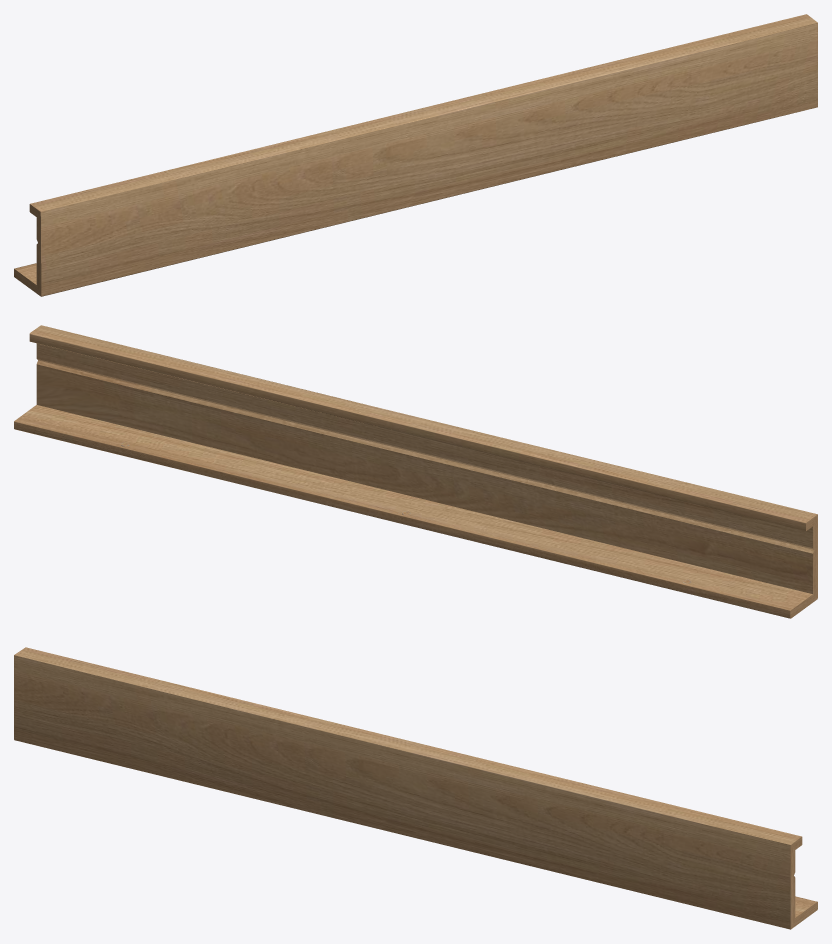
Rendered from LB-ART-02.glb.
3 views of the same model, one above another, from view 1: azimuth 30°, elevation 25°; view 2: azimuth 150°, elevation 25°; view 3: azimuth 330°, elevation 25° (orthographic).
Visible parts, largest first — view 1: ASY_ART_70586941_S01_NV01; view 2: ASY_ART_70586941_S01_NV01; view 3: ASY_ART_70586941_S01_NV01.
Boxes of the visible parts, x1,y1,x2,y2 form: ASY_ART_70586941_S01_NV01: (14, 14, 817, 296); ASY_ART_70586941_S01_NV01: (14, 325, 817, 618); ASY_ART_70586941_S01_NV01: (14, 647, 817, 929).
Size of the model in its own units: 1.15 by 0.1203 by 0.0703.
1 material, 1 textured.
